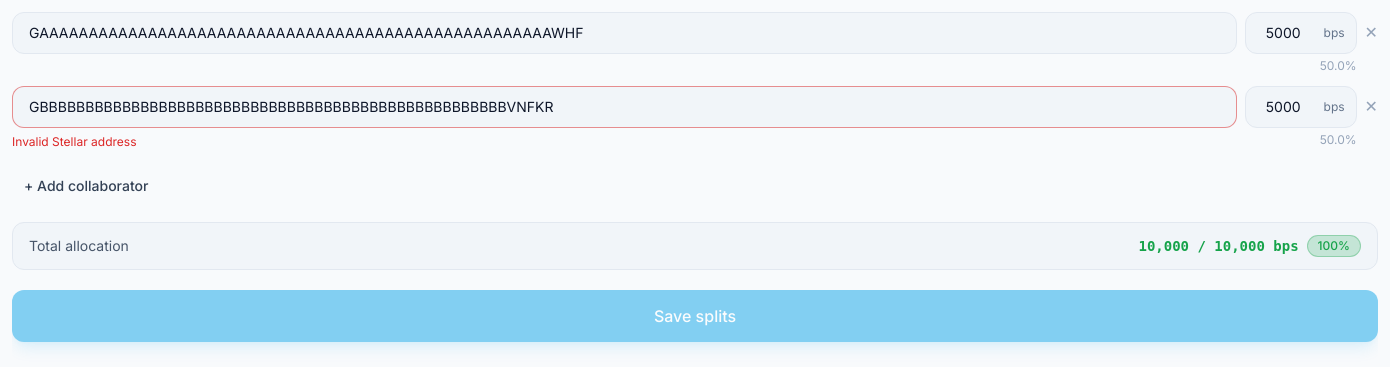
Test: SplitsManager – add and remove rows › removes the correct row when ✕ is clicked
The image size is (1390, 367).
Expected: the number of fields is 2, x1=12 y1=12 x2=1237 y2=54; x1=12 y1=86 x2=1237 y2=128
Click the first remove button
Click the button named "remove recipient": (1371, 32) x1=1365 y1=20 x2=1378 y2=44
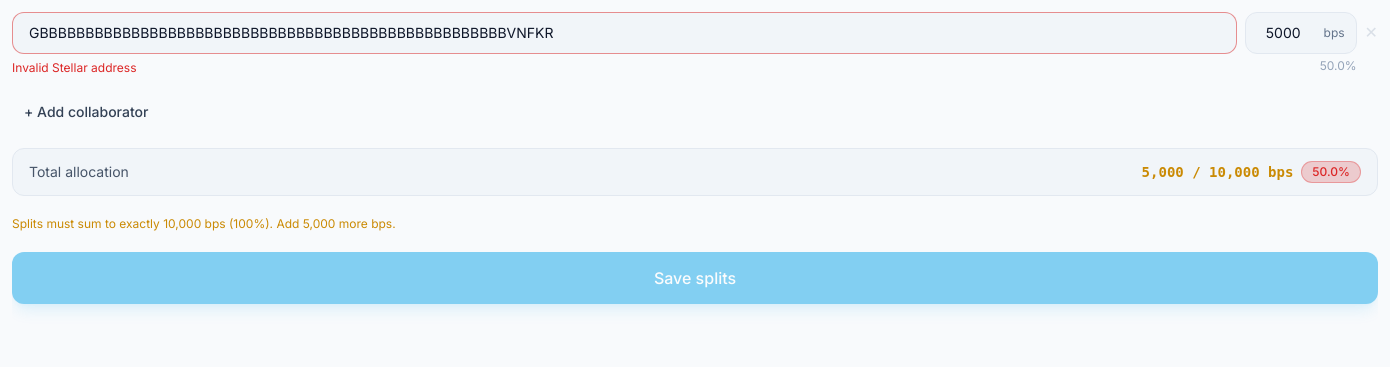
Expected: the number of fields is 1, x1=12 y1=12 x2=1237 y2=54
